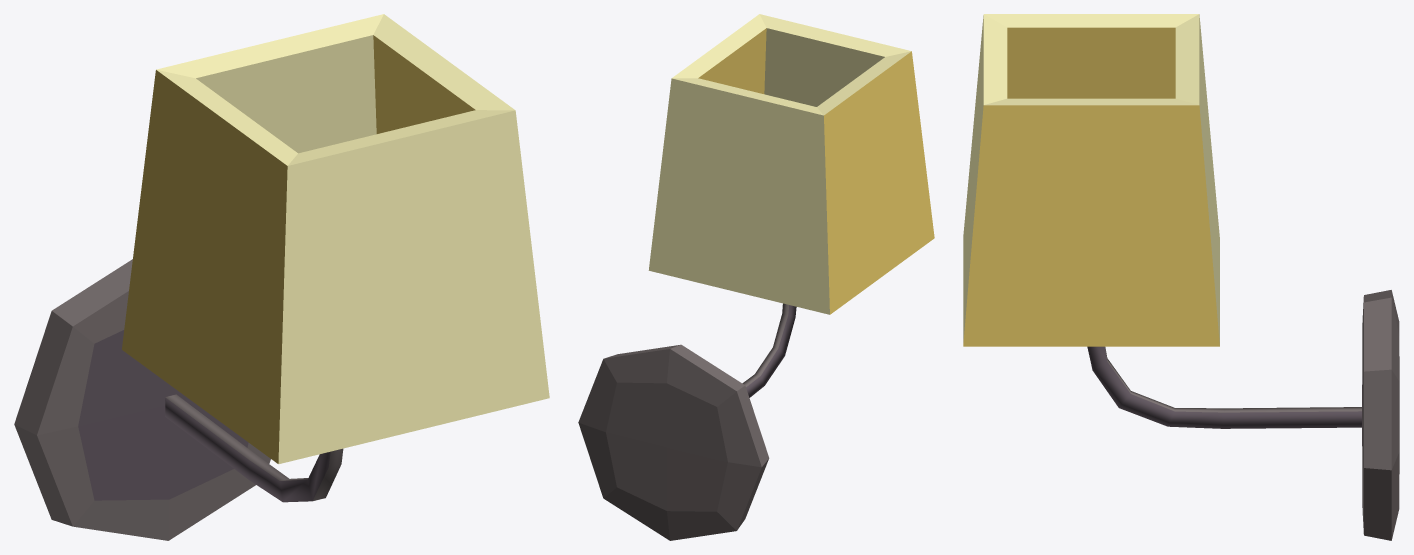
The model's file is Wall Lamp.fbx.
The picture shows the model from 3 angles, left to right: view 1: azimuth 30°, elevation 25°; view 2: azimuth 150°, elevation 25°; view 3: azimuth 270°, elevation 25°; orthographic projection. The views are drawn at different scales.
Visible parts, largest first — view 1: Wall Lamp; view 2: Wall Lamp; view 3: Wall Lamp.
Part boxes in pixels (left/top/right/bottom): Wall Lamp: left=14, top=14, right=549, bottom=540; Wall Lamp: left=578, top=14, right=934, bottom=540; Wall Lamp: left=963, top=14, right=1399, bottom=540.
Size of the model in its own units: 46.37 by 93.28 by 77.88.
